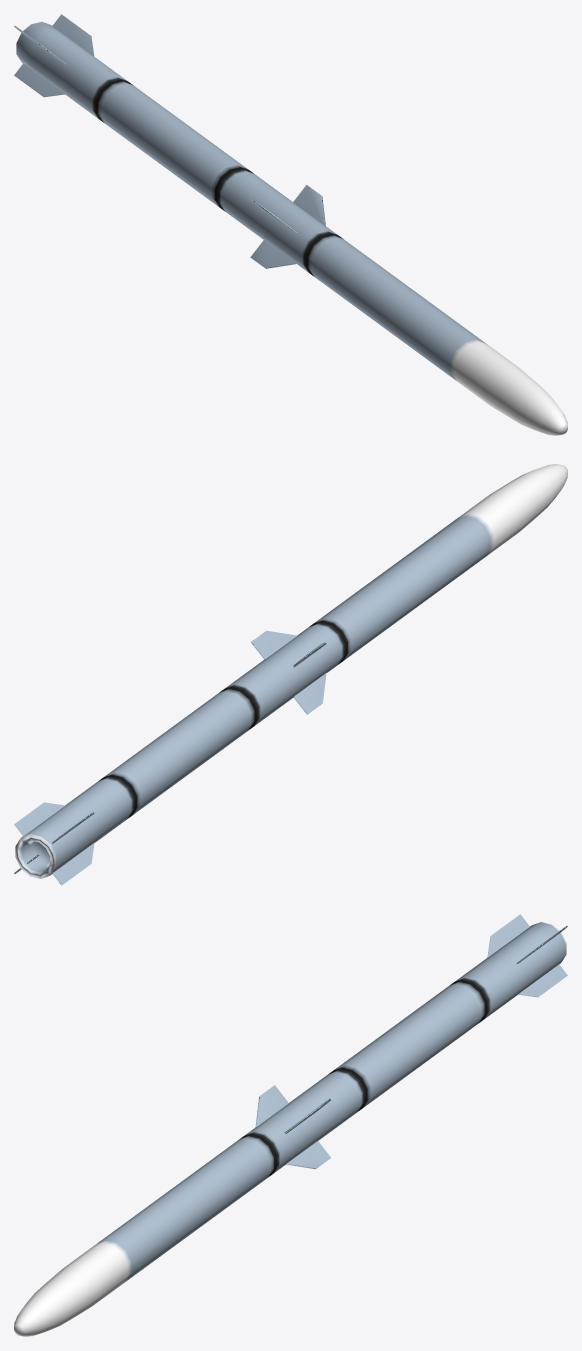
The model's file is aim-120.glb.
3 renders of one model, top to bottom at view 1: azimuth 30°, elevation 25°; view 2: azimuth 150°, elevation 25°; view 3: azimuth 330°, elevation 25°, orthographic.
Visible parts, largest first — view 1: AIM-120; view 2: AIM-120; view 3: AIM-120.
Part boxes in pixels (x1=…): AIM-120: x1=14, y1=14, x2=567, y2=435; AIM-120: x1=14, y1=464, x2=567, y2=885; AIM-120: x1=14, y1=914, x2=567, y2=1336.
Bounding box in the file's own units: 0.0252 × 0.0252 × 0.4.
Materials: 1 (1 with a texture image).
